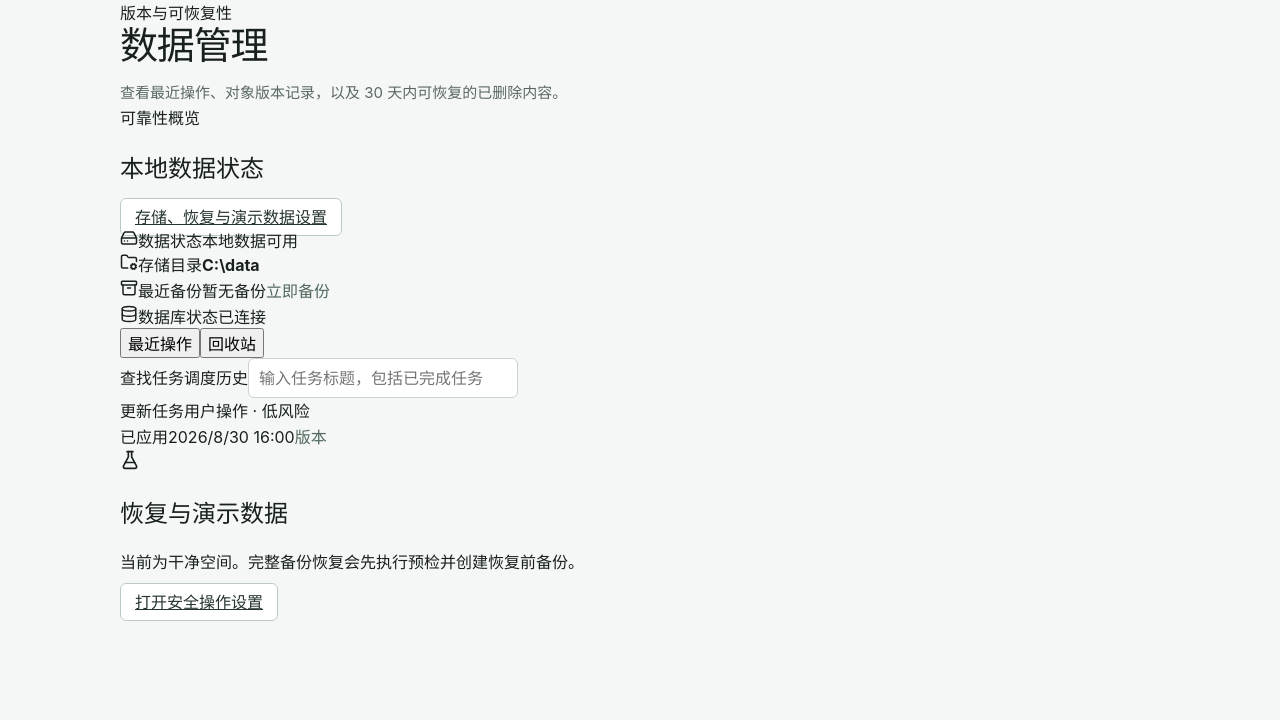
DataManagementPage history closure › surfaces RESTORE_CONFLICT to the user
Click the button "版本": (311, 436) [295, 422, 327, 450]
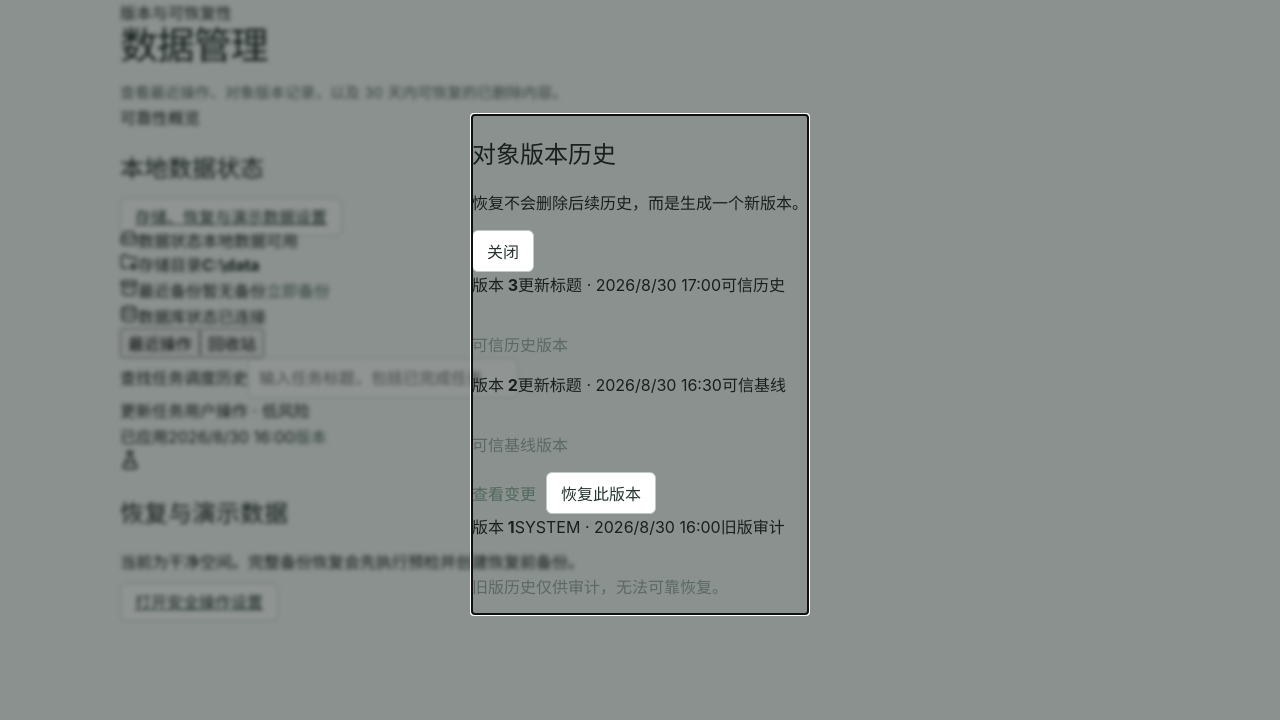
Check: the heading "对象版本历史" is shown, box [472, 140, 616, 169]
Click the button "查看变更": (504, 493) [472, 479, 536, 507]
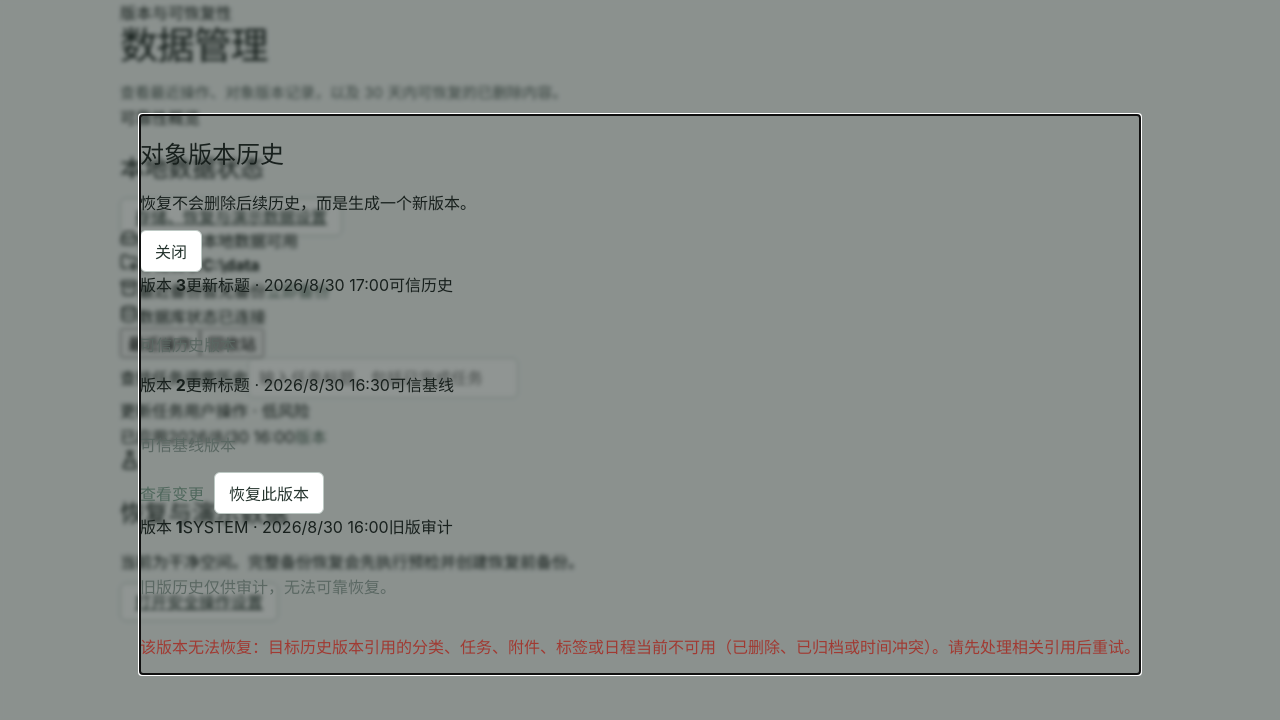
Check: the text "该版本无法恢复：目标历史版本引用的分类、任务、附件、标签或日程当前不可用" is shown, box [140, 637, 1140, 657]
